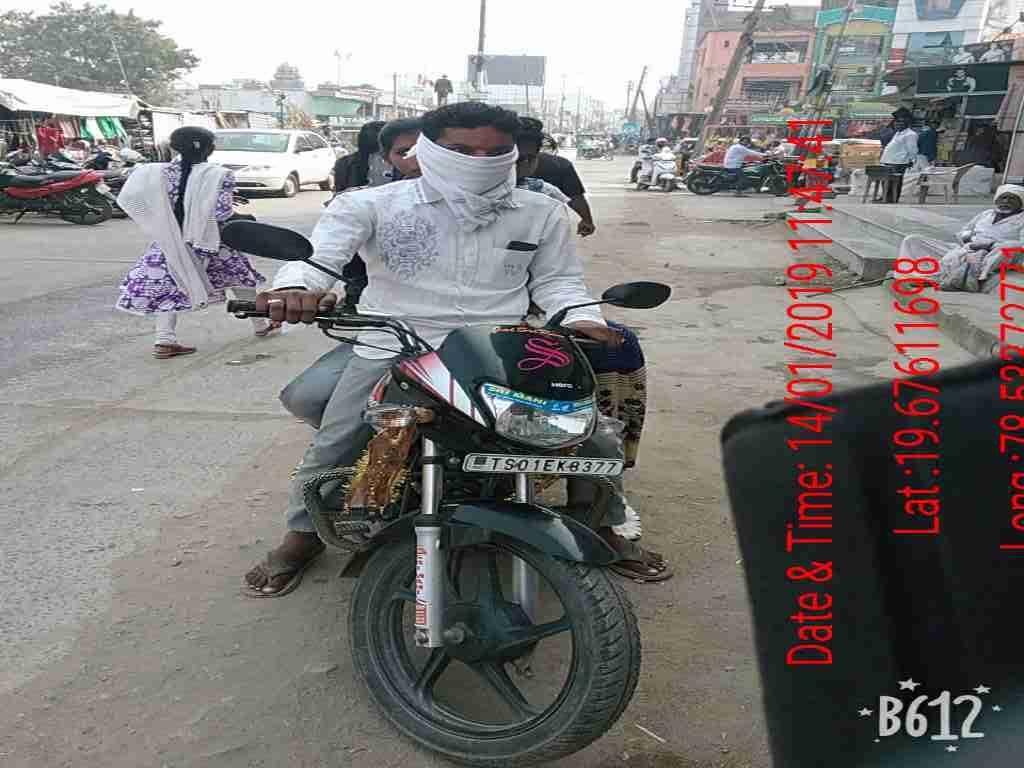plate: (456, 442, 629, 480)
